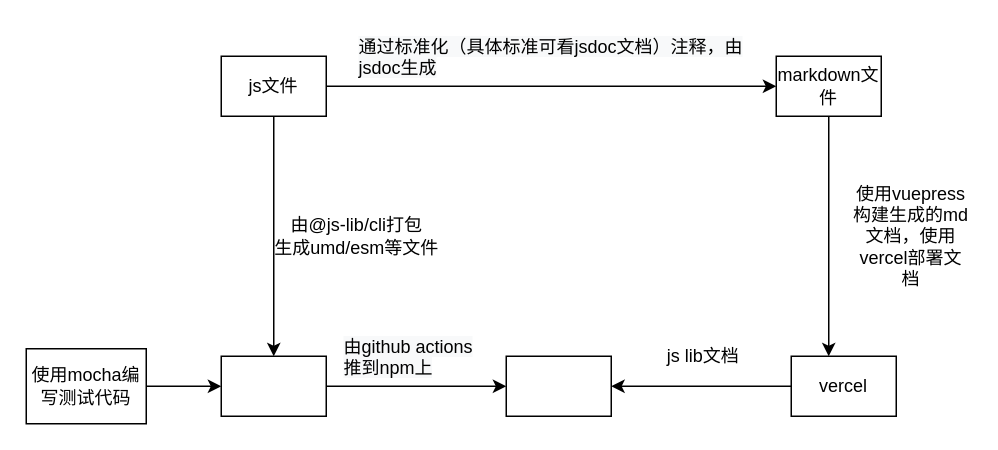
Image size: 998x450. Some labels were removed from this diagram. The shapes that lost their labels are listed below. From the top down, each one's centre as x and y in pixels, then its label:
At point 273,385: "js lib".
At point 558,385: "npm".
